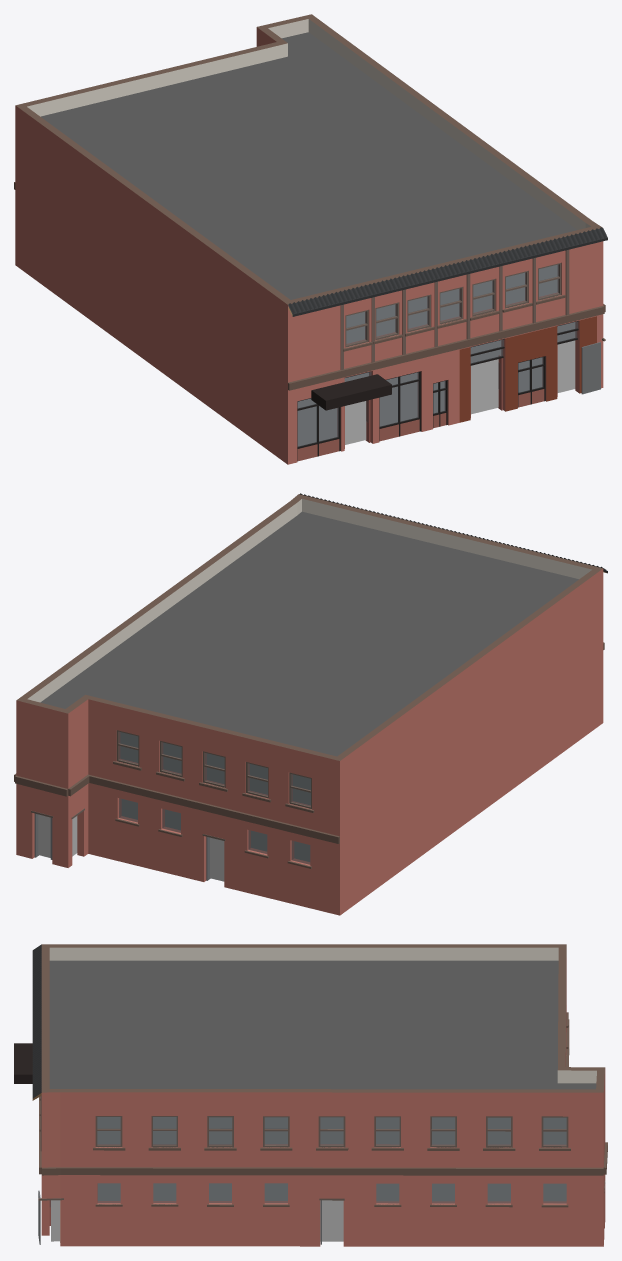
The model's file is exterior.glb.
The picture shows the model from 3 angles, top to bottom: view 1: azimuth 30°, elevation 25°; view 2: azimuth 150°, elevation 25°; view 3: azimuth 270°, elevation 25°; orthographic projection. The views are drawn at different scales.
Visible parts, largest first — view 1: shell, roof, shadow-proxy, glazing, storefront, tile-eave, trim, relief-5, frames, awning-box-5; view 2: shell, roof, shadow-proxy, glazing, trim, frames, storefront; view 3: shell, roof, shadow-proxy, glazing, trim, frames, tile-eave, awning-box-5, storefront.
Boxes of the visible parts, bbox=[...] form: shell: bbox=[15, 14, 603, 464]; roof: bbox=[41, 32, 576, 299]; shadow-proxy: bbox=[298, 265, 575, 446]; glazing: bbox=[297, 264, 578, 446]; storefront: bbox=[297, 321, 605, 461]; tile-eave: bbox=[288, 227, 607, 316]; trim: bbox=[14, 182, 605, 390]; relief-5: bbox=[340, 249, 569, 370]; frames: bbox=[345, 263, 561, 347]; awning-box-5: bbox=[311, 374, 391, 410]; shell: bbox=[16, 494, 603, 915]; roof: bbox=[40, 511, 578, 756]; shadow-proxy: bbox=[38, 732, 310, 881]; glazing: bbox=[119, 732, 310, 864]; trim: bbox=[14, 642, 604, 868]; frames: bbox=[116, 730, 311, 808]; storefront: bbox=[31, 808, 225, 880]; shell: bbox=[41, 944, 605, 1246]; roof: bbox=[49, 960, 596, 1089]; shadow-proxy: bbox=[51, 1117, 566, 1241]; glazing: bbox=[50, 1117, 566, 1207]; trim: bbox=[39, 1012, 607, 1207]; frames: bbox=[95, 1116, 568, 1147]; tile-eave: bbox=[32, 944, 41, 1100]; awning-box-5: bbox=[14, 1043, 32, 1083]; storefront: bbox=[38, 1181, 605, 1244].
Bounding box in the file's own units: 15.26 × 7.39 × 25.62.
